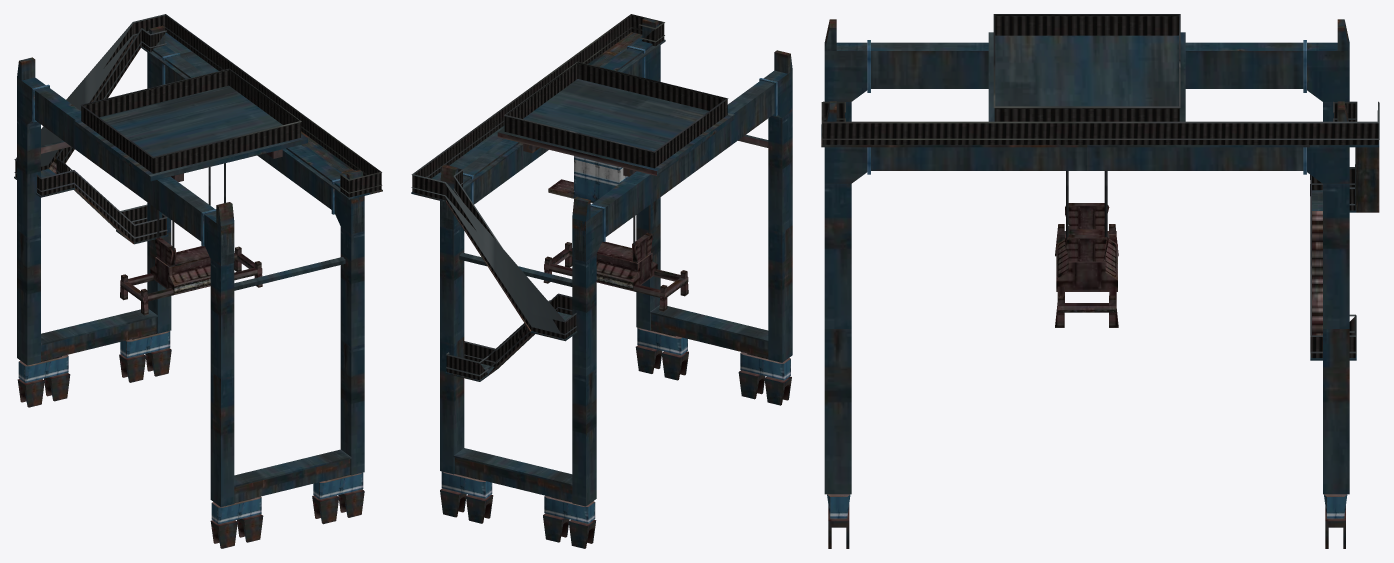
The model's file is ind-portal-crane.zfix-v14.lod1.glb.
3 renders of one model, left to right at view 1: azimuth 30°, elevation 25°; view 2: azimuth 150°, elevation 25°; view 3: azimuth 270°, elevation 25°, orthographic. The views are drawn at different scales.
Visible parts, largest first — view 1: Industrial_PortalCrane_2_Industrial_Walls_FLR_2_0, Industrial_PortalCrane_2_Industrial_Maskedstuff_1_0; view 2: Industrial_PortalCrane_2_Industrial_Walls_FLR_2_0, Industrial_PortalCrane_2_Industrial_Maskedstuff_1_0; view 3: Industrial_PortalCrane_2_Industrial_Walls_FLR_2_0, Industrial_PortalCrane_2_Industrial_Maskedstuff_1_0.
Boxes of the visible parts, left/top/right/bottom form: Industrial_PortalCrane_2_Industrial_Walls_FLR_2_0: left=14, top=14, right=382, bottom=548; Industrial_PortalCrane_2_Industrial_Maskedstuff_1_0: left=15, top=15, right=381, bottom=243; Industrial_PortalCrane_2_Industrial_Walls_FLR_2_0: left=411, top=14, right=792, bottom=548; Industrial_PortalCrane_2_Industrial_Maskedstuff_1_0: left=412, top=15, right=727, bottom=380; Industrial_PortalCrane_2_Industrial_Walls_FLR_2_0: left=821, top=14, right=1379, bottom=548; Industrial_PortalCrane_2_Industrial_Maskedstuff_1_0: left=822, top=15, right=1378, bottom=358.
Bounding box in the file's own units: 9.32 × 18.42 × 20.95.
Materials: 2 (2 with a texture image).
